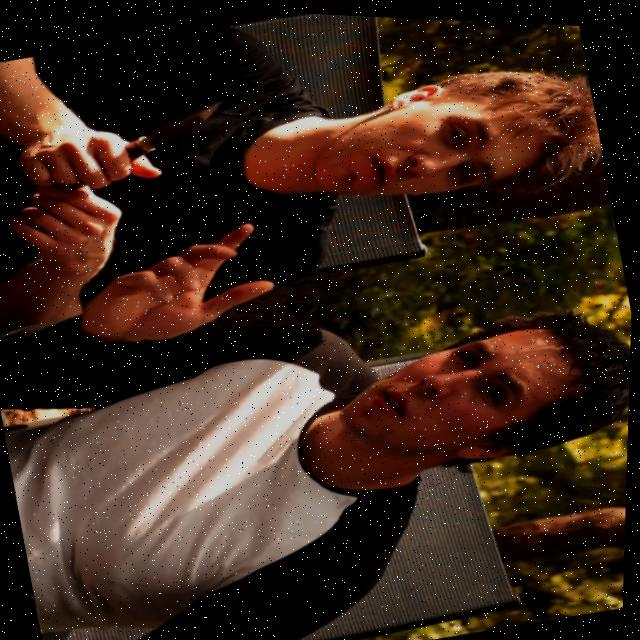knife: (121, 93, 232, 163)
